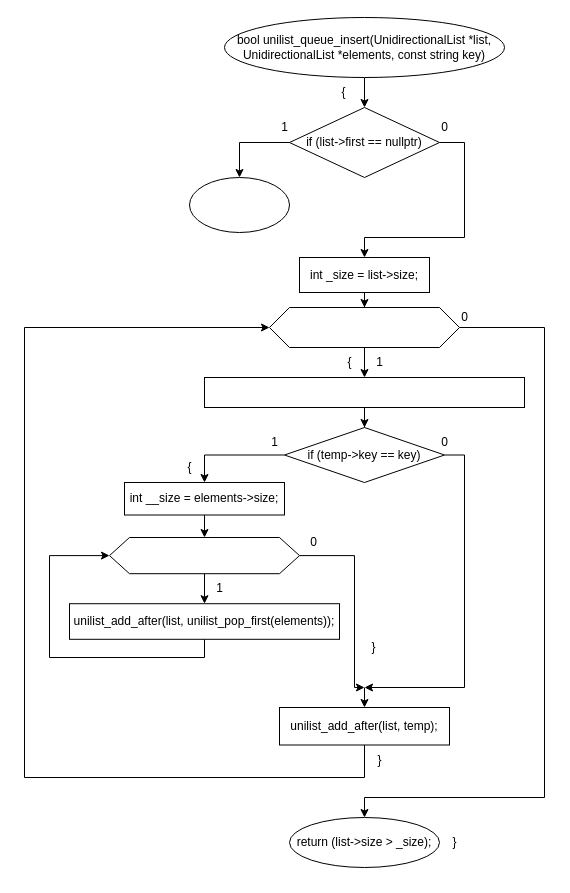
The diagram is 570 pixels wide and 893 high, and some of its shapes have lost their labels. The centre of each missing label's shape, as x and y in pixels:
"for (int i = 1; i <= __size; i++)" belongs at pixel 204 555.
"for (int i = 1; i <= _size; i++)" belongs at pixel 364 327.
"return false;" belongs at pixel 239 204.
"UnidirectionalElement *temp = unilist_pop_first(list);" belongs at pixel 364 392.
